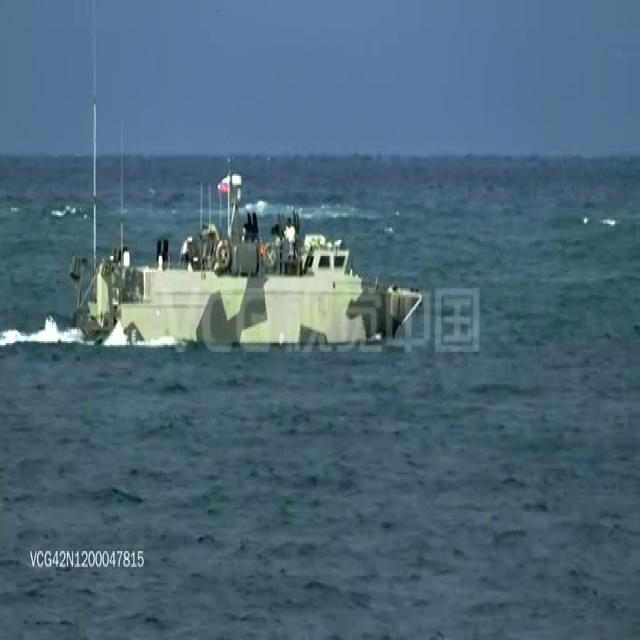houseboat: (70, 184, 416, 348)
